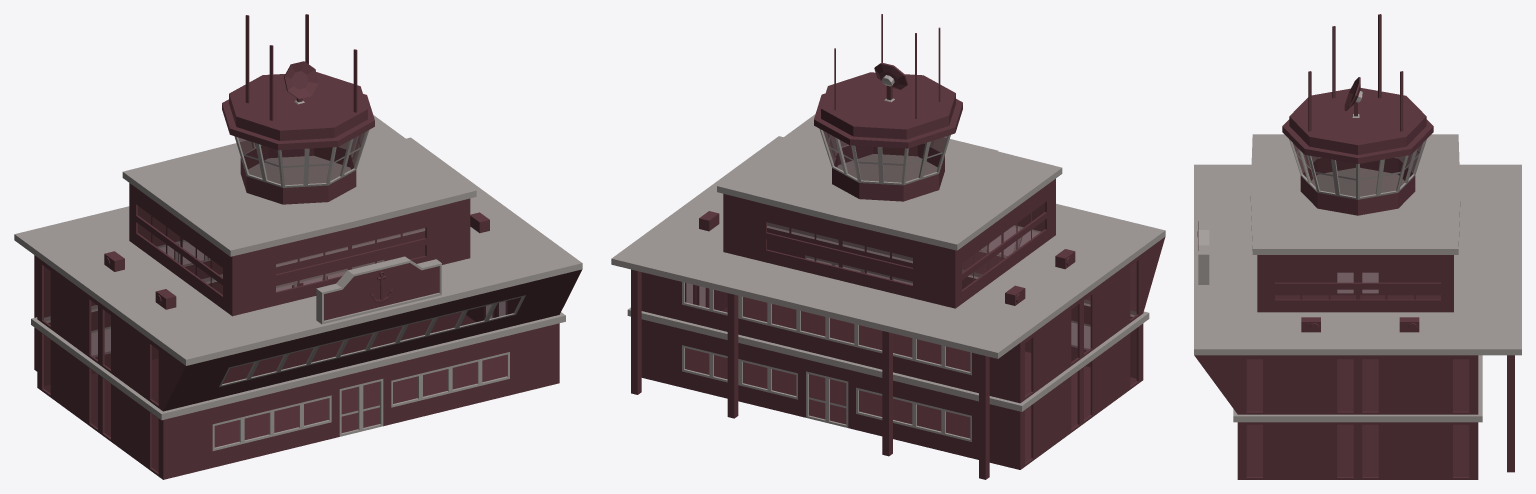
The model's file is building-port-sea.fbx.
3 renders of one model, left to right at view 1: azimuth 30°, elevation 25°; view 2: azimuth 150°, elevation 25°; view 3: azimuth 270°, elevation 25°, orthographic. The views are drawn at different scales.
Parts seen in each view (by area): view 1: building-port-sea; view 2: building-port-sea; view 3: building-port-sea.
Boxes of the visible parts, left/top/right/bottom form: building-port-sea: left=14, top=14, right=582, bottom=479; building-port-sea: left=611, top=14, right=1165, bottom=479; building-port-sea: left=1194, top=14, right=1521, bottom=479.
Size of the model in its own units: 27.2 by 23.87 by 20.
